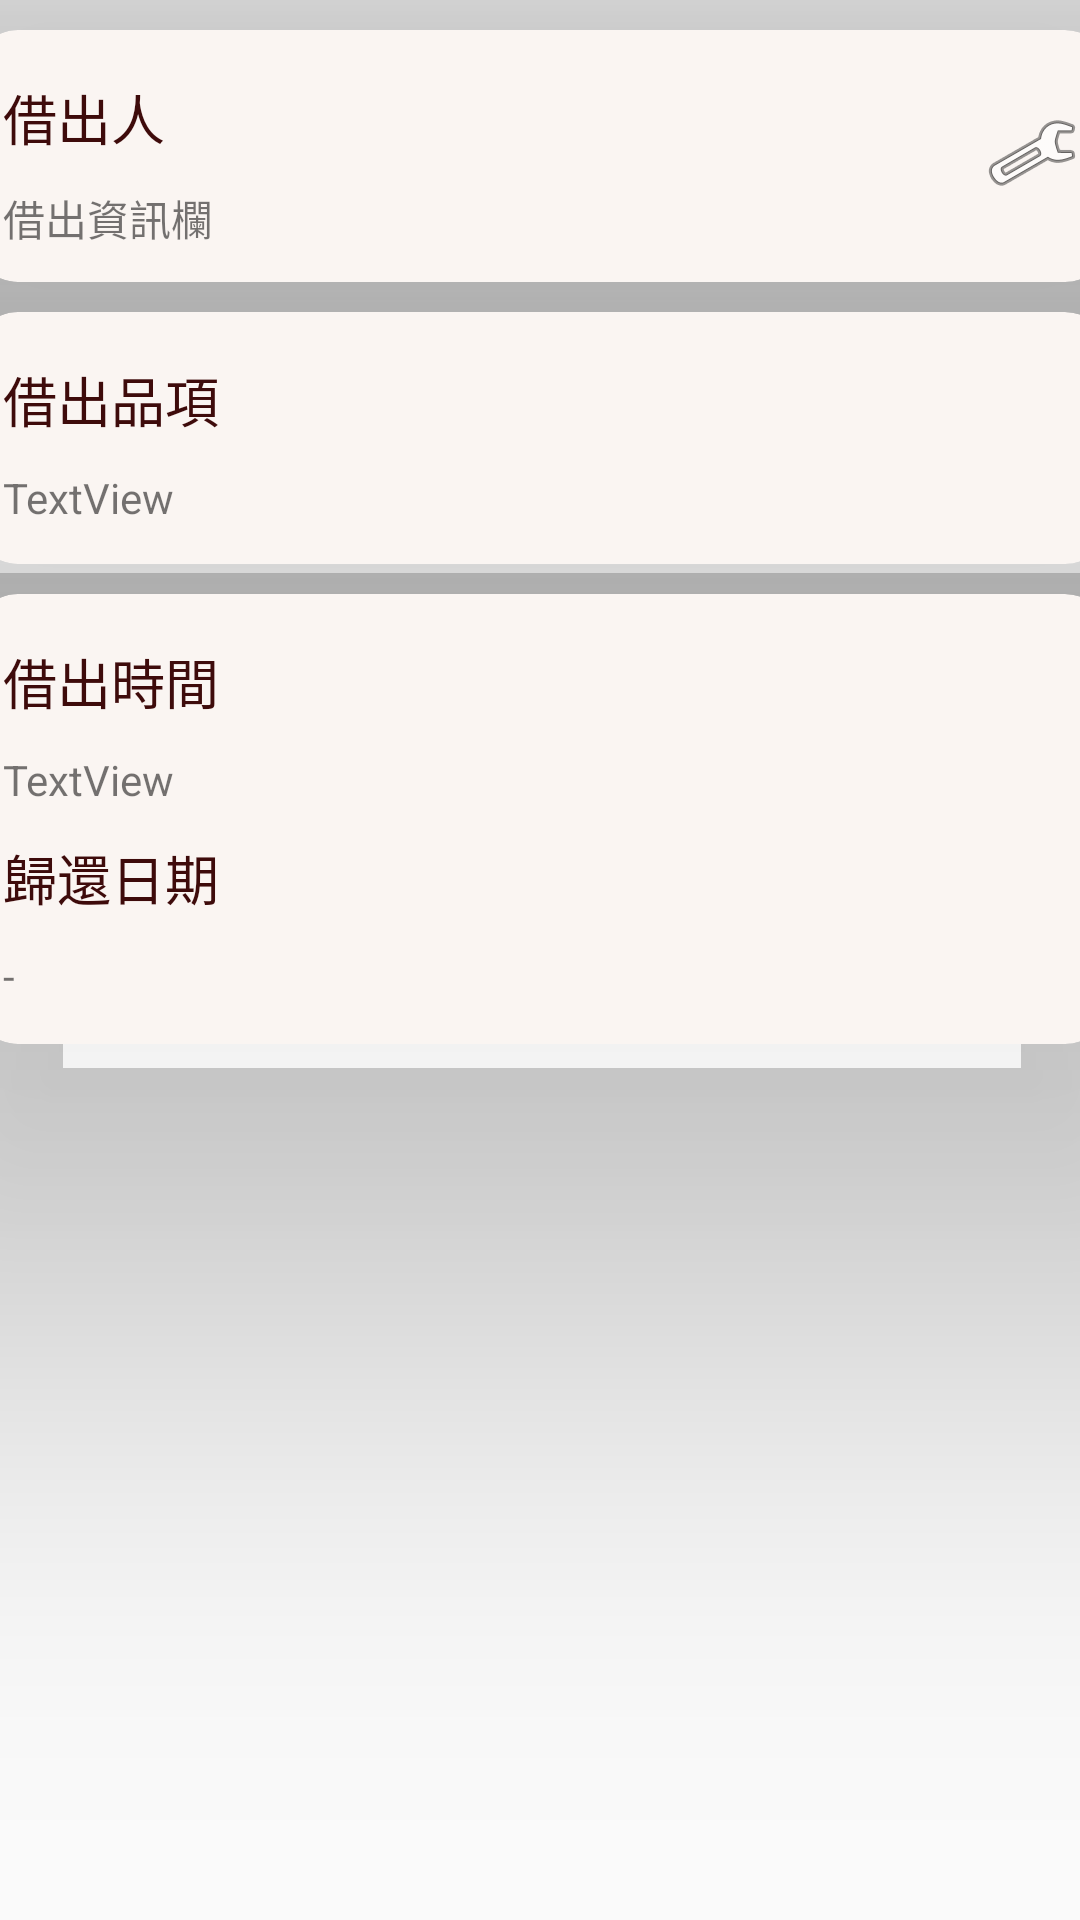

Where icons sit on this 1080px×1920px app screen, as (x1, y1, x2, y2):
manage: (989, 120, 1075, 186)
